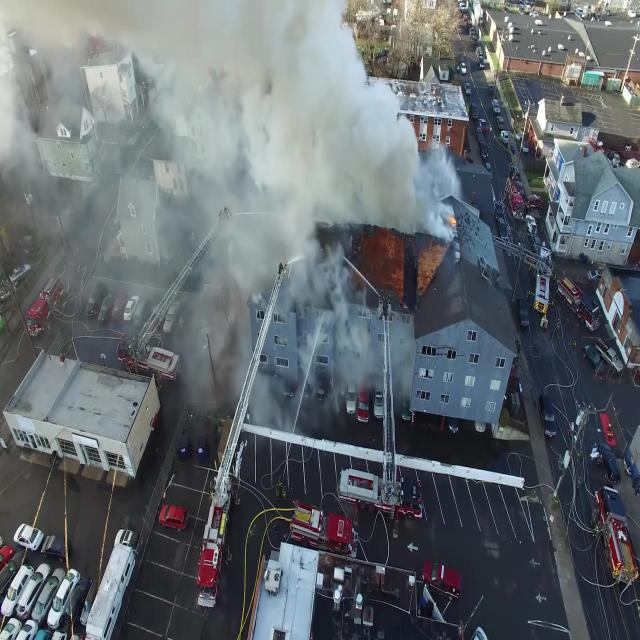Smoke: (0, 0, 457, 443)
